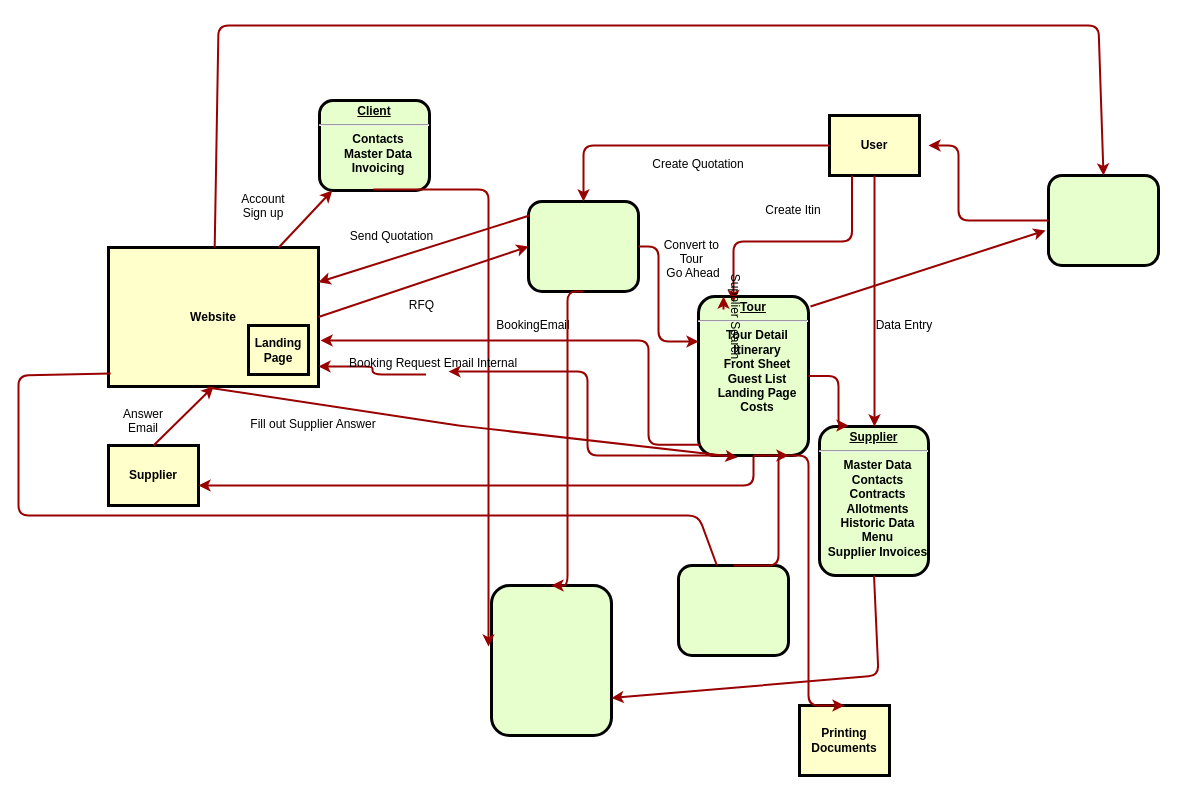
The diagram is 1177 pixels wide and 794 high, and some of its shapes have lost their labels. Each missing label, with the centre of its shape:
"Accounting Management Area Billing AR AP Office Fee Reporting" goes at (x=551, y=660).
"Bus Company Master Data Coaches Drivers Calendar" goes at (x=733, y=610).
"Quotatiion Short Itin Excel Conv Calc" goes at (x=583, y=246).
"Tasks Reminder System Todo List Calendar" goes at (x=1103, y=220).
